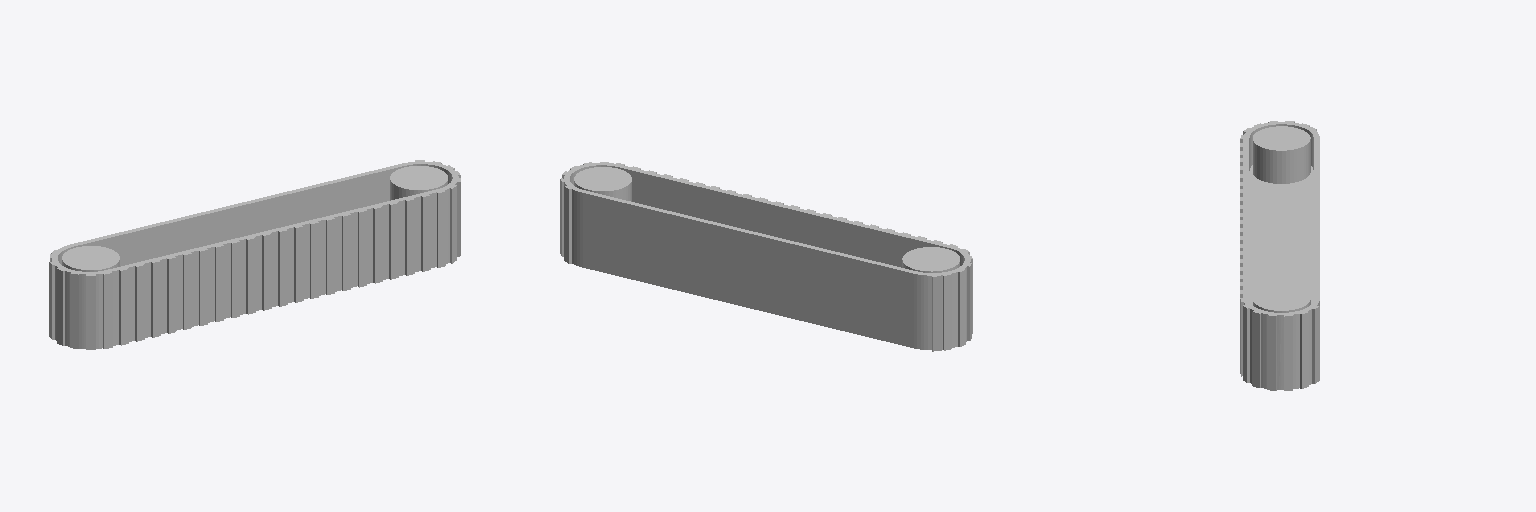
File: TrackAnimation3.obj
3 views of the same model, side by side, from view 1: azimuth 30°, elevation 25°; view 2: azimuth 150°, elevation 25°; view 3: azimuth 270°, elevation 25° (orthographic).
Visible parts, largest first — view 1: Body1; view 2: Body1; view 3: Body1.
Part boxes in pixels (bbox=[...]): Body1: bbox=[49, 160, 460, 349]; Body1: bbox=[560, 162, 972, 351]; Body1: bbox=[1240, 121, 1319, 390].
Bounding box in the file's own units: 152 × 27 × 26.04.